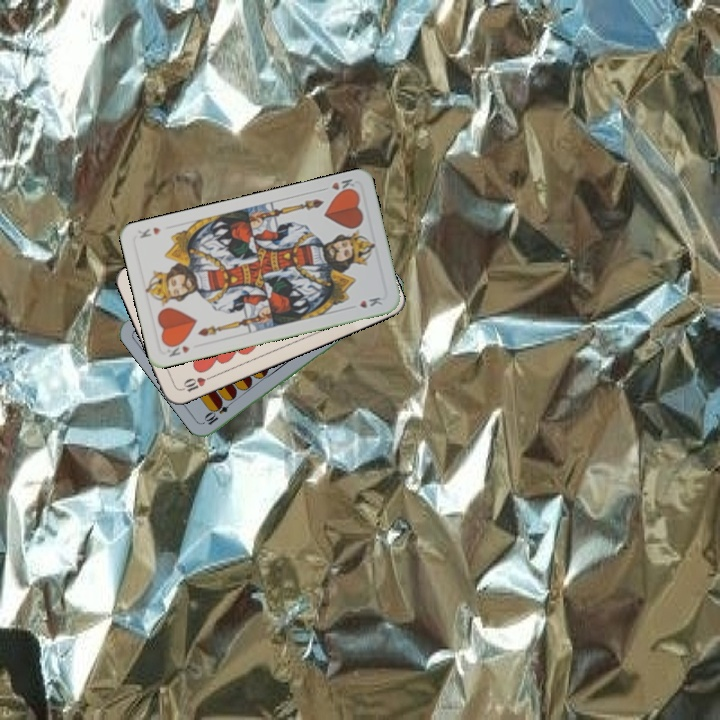E10: (201, 395, 237, 428)
H10: (177, 371, 216, 395)
HK: (327, 175, 359, 198), (163, 338, 192, 359)
